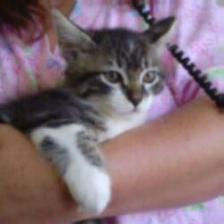cat: (52, 7, 180, 118)
